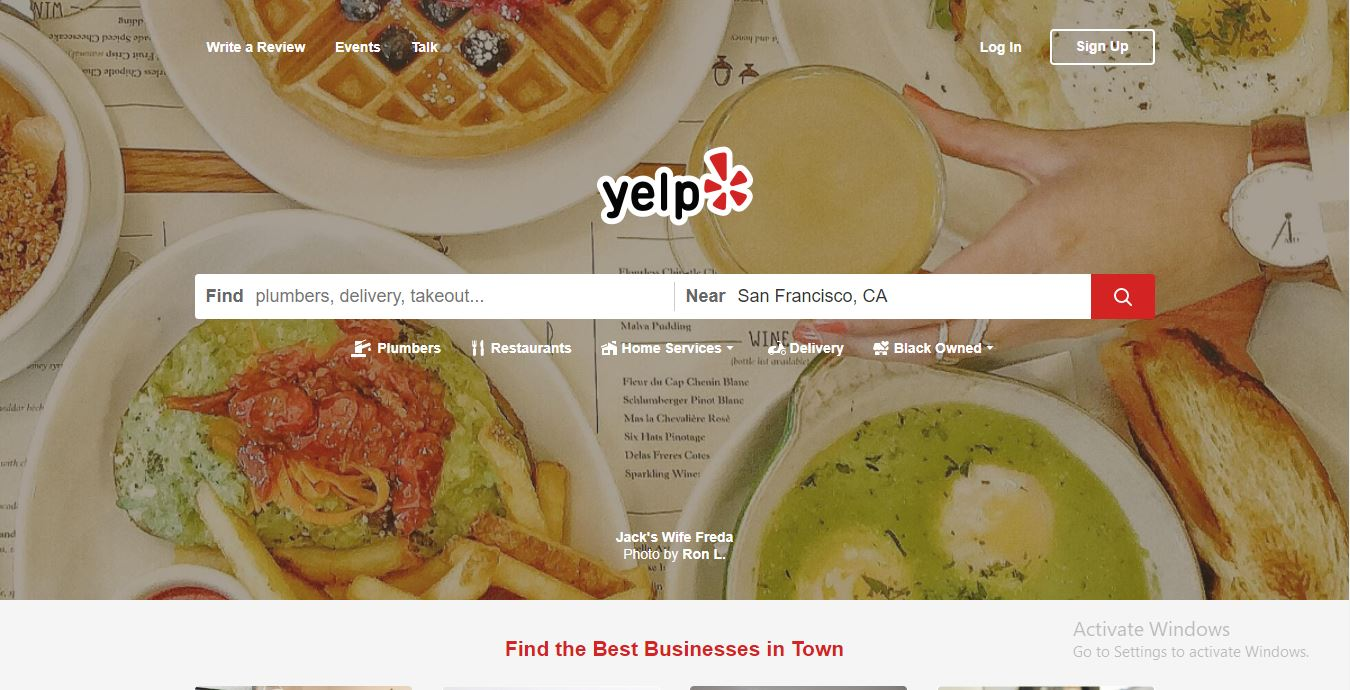Button: (1088, 272, 1159, 324)
Image: (574, 144, 774, 228)
Menu Bar: (326, 329, 1048, 364), (188, 30, 455, 66)
Nav Bar: (955, 23, 1160, 71)
Text Field: (255, 271, 679, 320)
